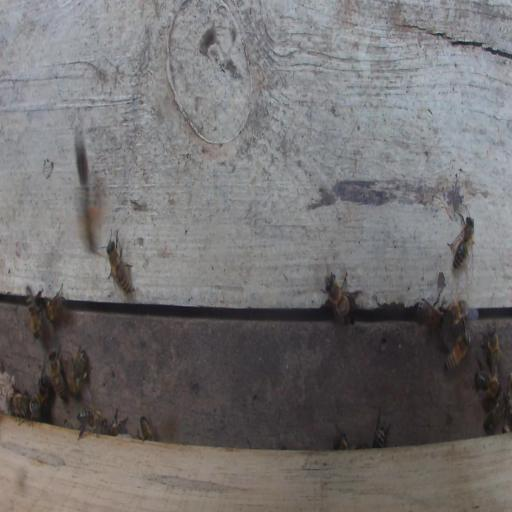nonpollenbee: (103, 238, 133, 296), (447, 215, 475, 271), (325, 274, 353, 323), (483, 391, 510, 434), (444, 329, 470, 372), (48, 347, 68, 402), (76, 406, 107, 439), (44, 282, 66, 324), (26, 285, 42, 339), (475, 368, 501, 401), (485, 324, 501, 375), (415, 303, 444, 327), (106, 408, 129, 436), (446, 298, 469, 325), (37, 369, 50, 413), (372, 419, 391, 448), (9, 393, 30, 417), (139, 415, 154, 441), (333, 428, 349, 450), (29, 395, 40, 421)
pollenbee: (68, 350, 87, 397)
